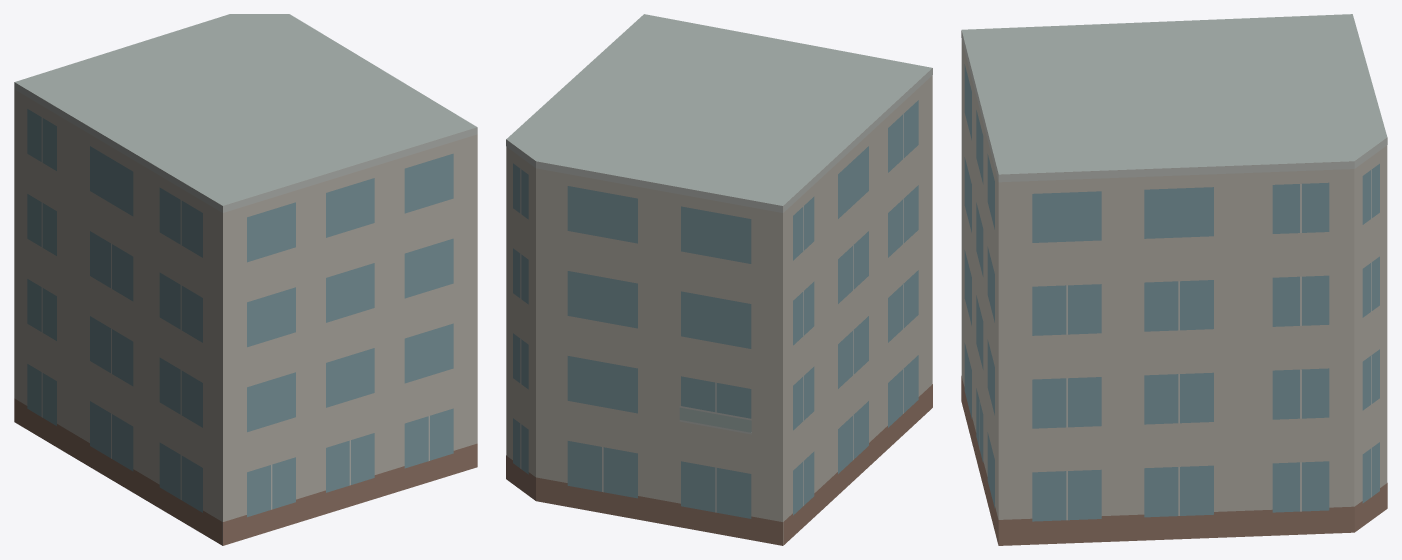
The model's file is survey-upis-32956549.glb.
3 renders of one model, left to right at view 1: azimuth 30°, elevation 25°; view 2: azimuth 150°, elevation 25°; view 3: azimuth 270°, elevation 25°, orthographic. The views are drawn at different scales.
Parts seen in each view (by area): view 1: survey-upis-32956549.tmp; view 2: survey-upis-32956549.tmp; view 3: survey-upis-32956549.tmp.
Part boxes in pixels (bbox=[...]): survey-upis-32956549.tmp: bbox=[14, 14, 477, 545]; survey-upis-32956549.tmp: bbox=[506, 14, 932, 545]; survey-upis-32956549.tmp: bbox=[961, 14, 1387, 545].
Size of the model in its own units: 10.86 by 11.7 by 12.17.
